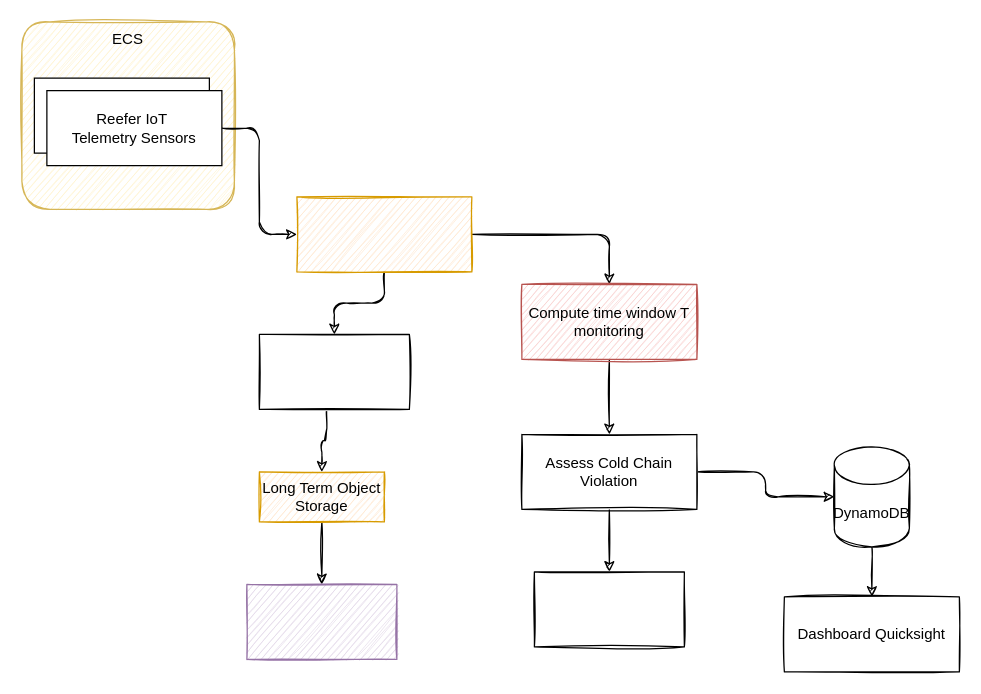
Some shapes in this 981 by 694 pixel diagram are drawn without their labels. Each missing label, with the centre of its shape:
"Event Backbone middleware" belongs at [384,234].
"Long term ingection" belongs at [333,371].
"Notification Engine" belongs at [608,609].
"Query for Business User" belongs at [321,621].
